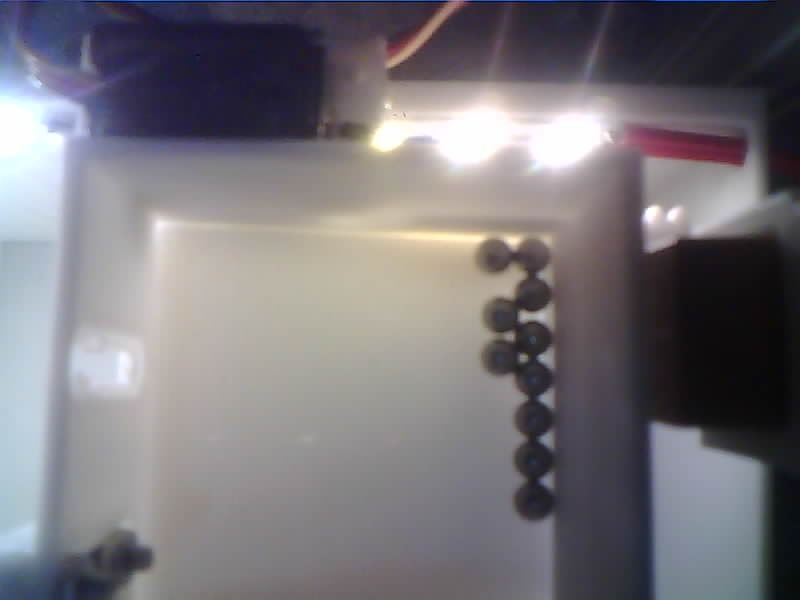Metal: (512, 482, 557, 523), (513, 438, 554, 480), (475, 236, 515, 276), (514, 235, 552, 276), (514, 398, 553, 437), (516, 359, 553, 397), (514, 276, 553, 312), (481, 297, 518, 334), (480, 339, 516, 376), (515, 322, 553, 356)
